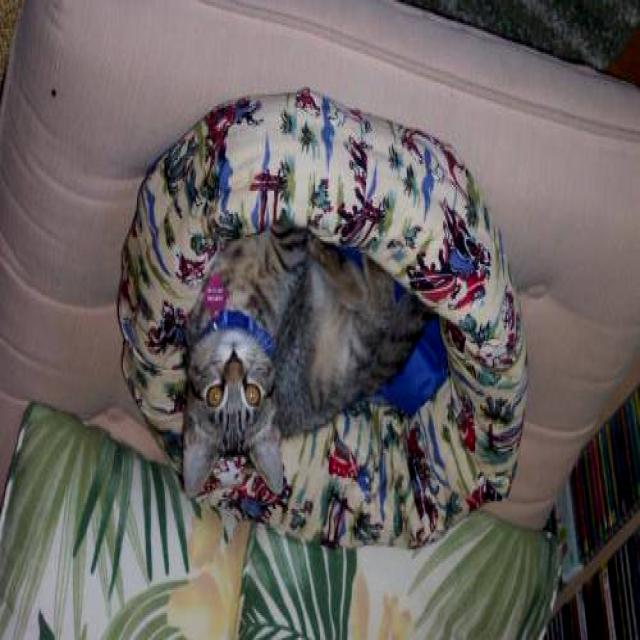Kucing: (173, 228, 478, 509)
